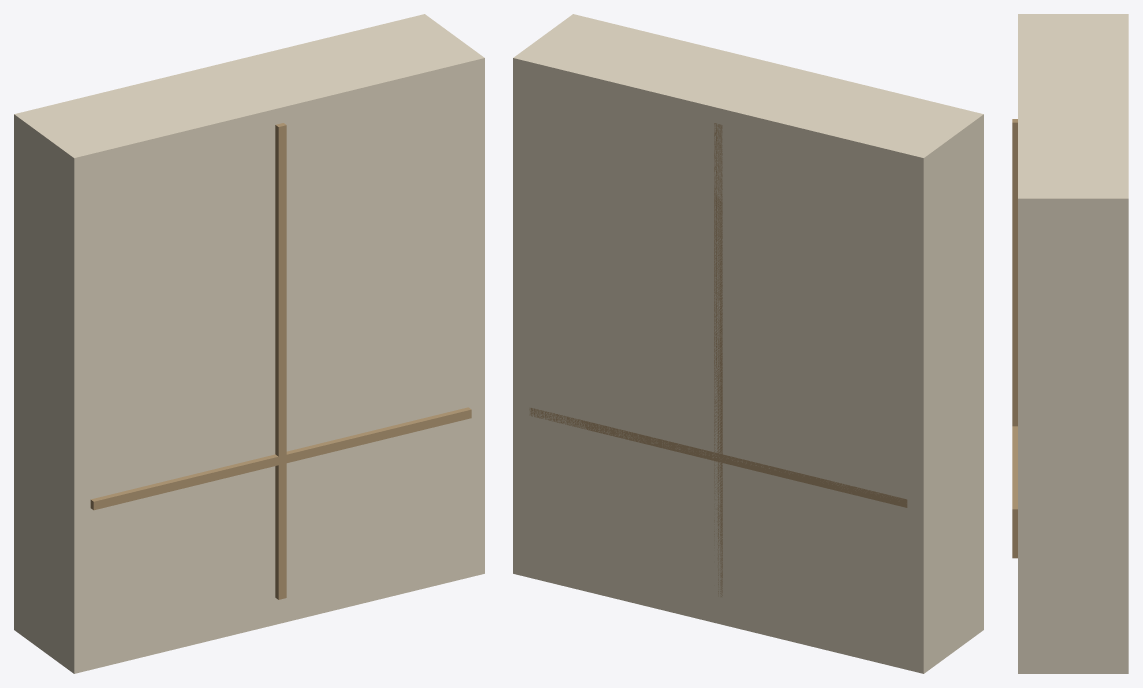
File: cabinet.glb
3 views of the same model, side by side, from view 1: azimuth 30°, elevation 25°; view 2: azimuth 150°, elevation 25°; view 3: azimuth 270°, elevation 25° (orthographic). The views are drawn at different scales.
Size of the model in its own units: 1.5 by 1.8 by 0.4.
